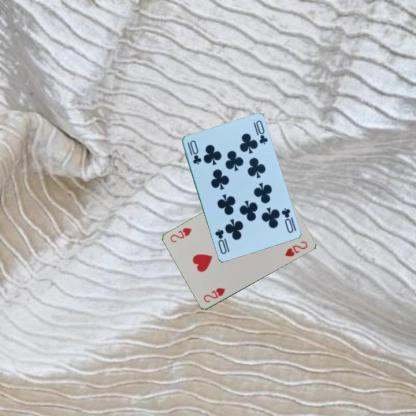10c: (184, 138, 202, 166), (278, 205, 295, 234)
2h: (201, 285, 226, 304)
